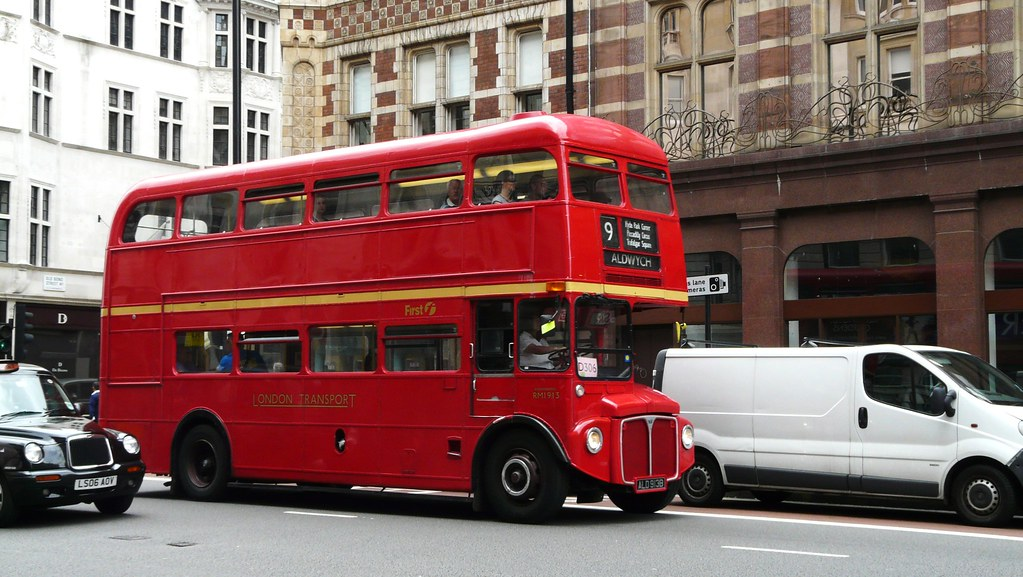bus: (79, 76, 693, 539)
